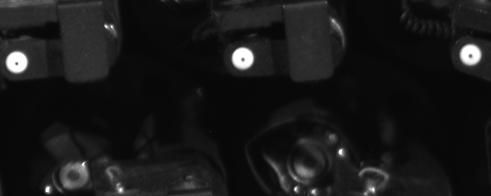fiber: (223, 43, 263, 79), (1, 44, 37, 82), (454, 39, 488, 70)
